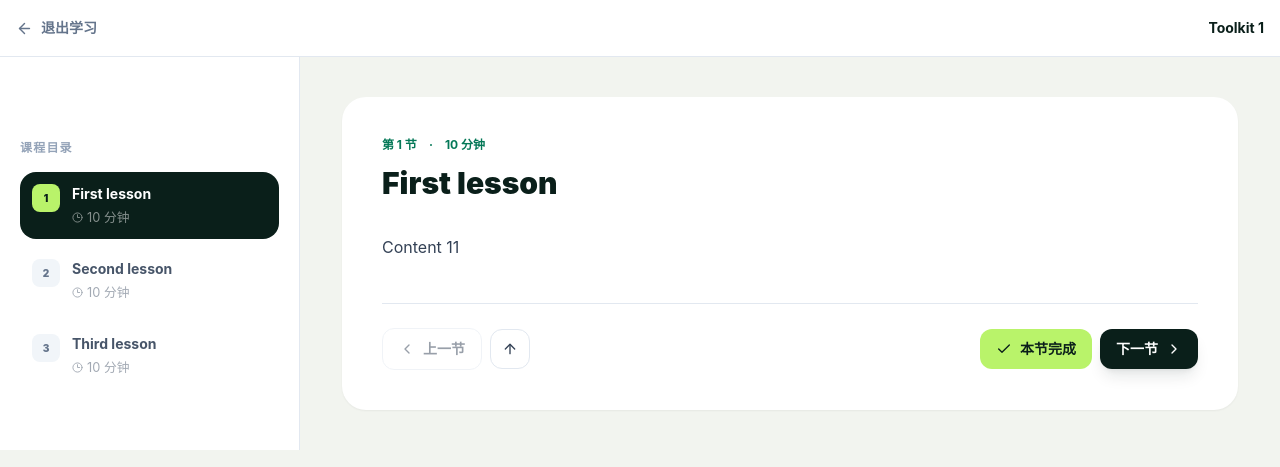
learning space › anonymous free/preview learning advances without inventing persisted progress
Expected: the heading "First lesson" is shown, [382,165,558,201]
What coordinates should you click on to do the following:
click the button "下一节"
I would click on:
 (1149, 349)
Its box is [1100,329,1198,369].
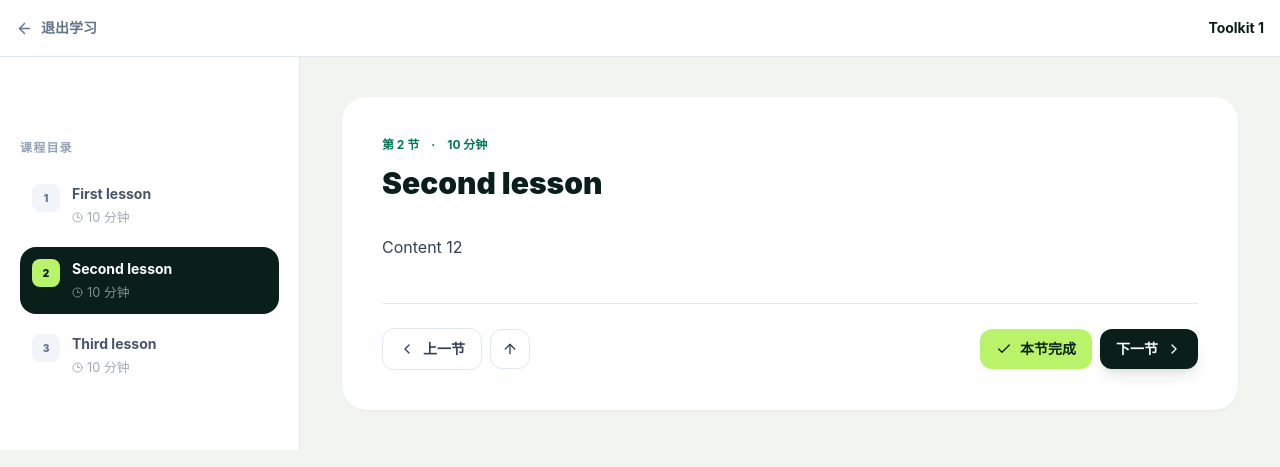
Now the heading "Second lesson" is shown, box [382,165,602,201]
